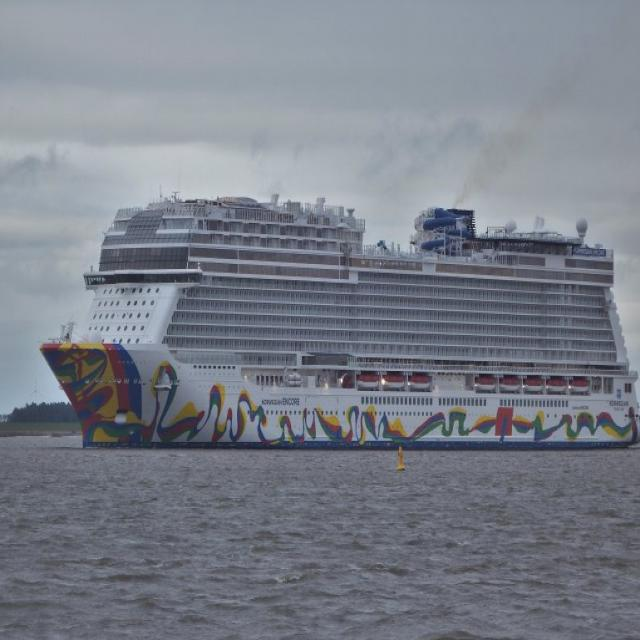cruises: (35, 182, 639, 458)
